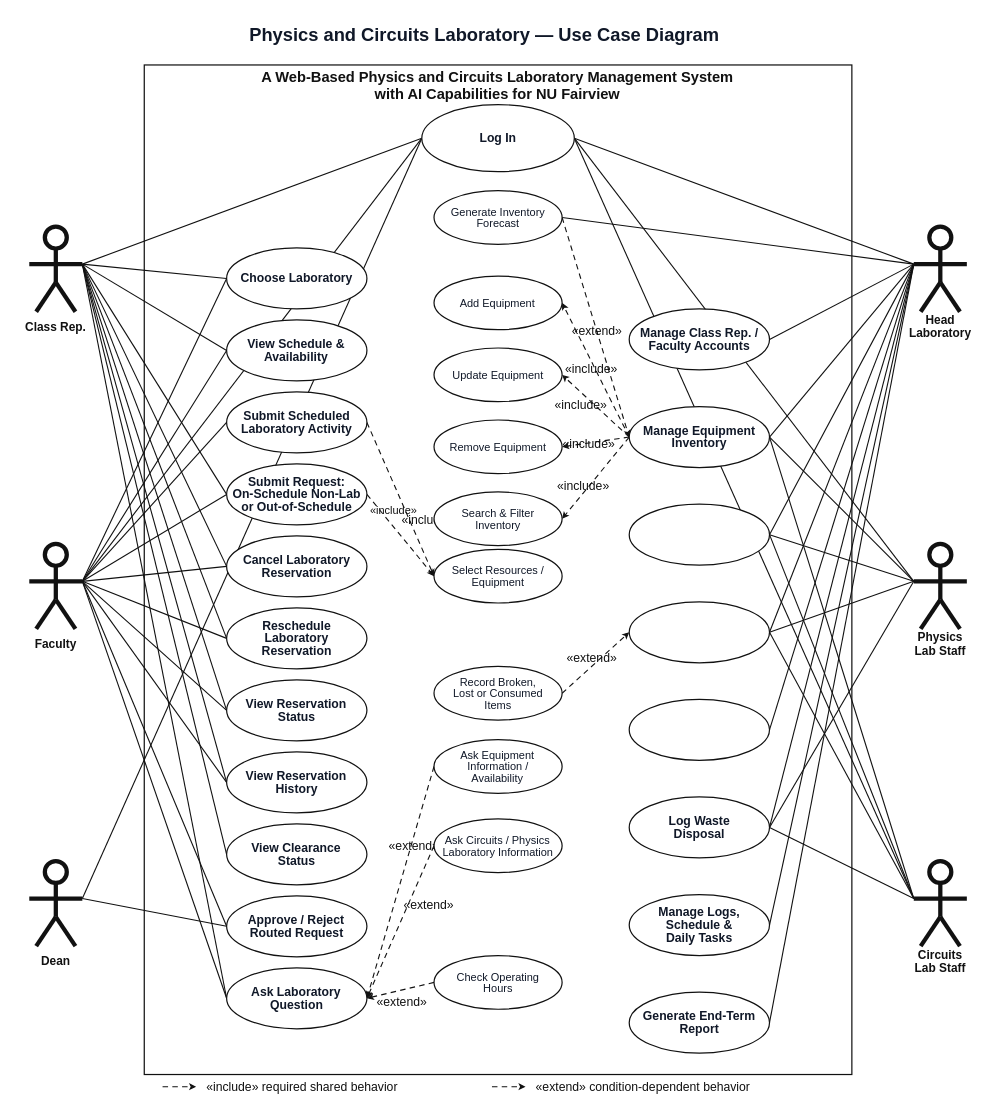
This 996x1118 diagram has some shape labels left out. The box of each missing label's shape, as (x1, y1, x2, y2) in pixels:
Issue Equipment: (628, 503, 770, 565)
Process Clearance: (628, 698, 770, 761)
Process Return: (628, 601, 770, 663)
